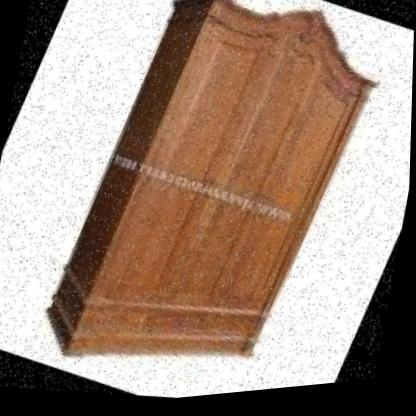Closet: (13, 0, 416, 414)
